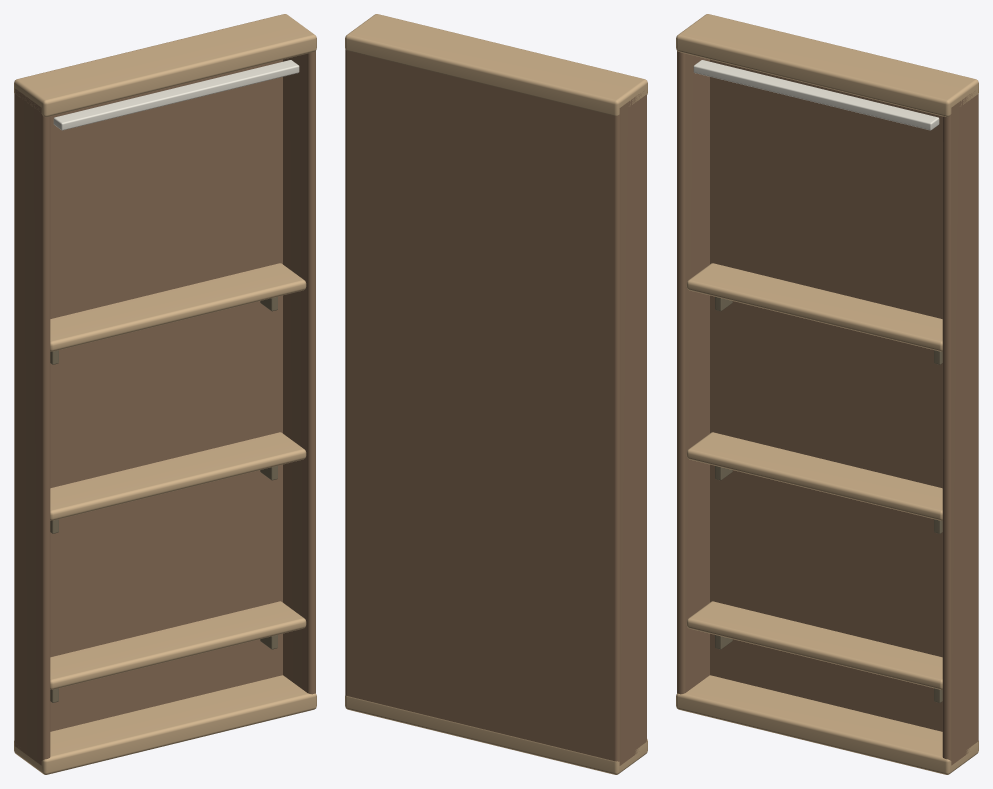
File: wall_cafe_narrow.glb
3 renders of one model, left to right at view 1: azimuth 30°, elevation 25°; view 2: azimuth 150°, elevation 25°; view 3: azimuth 330°, elevation 25°, orthographic.
Visible parts, largest first — view 1: Closed back, seated against existing opaque boundary, Outer stile, Outer stile.001, Bottom / crown.001, Bottom / crown, Load-bearing shelf.002, Load-bearing shelf, Load-bearing shelf.001, Integrated light diffuser; view 2: Closed back, seated against existing opaque boundary, Outer stile, Bottom / crown.001, Bottom / crown; view 3: Closed back, seated against existing opaque boundary, Outer stile.001, Outer stile, Bottom / crown.001, Bottom / crown, Load-bearing shelf.002, Load-bearing shelf, Load-bearing shelf.001, Integrated light diffuser.
Boxes of the visible parts, x1,y1,x2,y2 form: Closed back, seated against existing opaque boundary: (14,59,282,745); Outer stile: (15,89,50,765); Outer stile.001: (283,51,315,694); Bottom / crown.001: (14,14,316,116); Bottom / crown: (14,675,316,774); Load-bearing shelf.002: (50,263,306,351); Load-bearing shelf: (50,601,306,689); Load-bearing shelf.001: (50,432,306,520); Integrated light diffuser: (53,60,299,130); Closed back, seated against existing opaque boundary: (345,49,620,765); Outer stile: (620,91,646,765); Bottom / crown.001: (345,14,647,115); Bottom / crown: (345,695,647,774); Closed back, seated against existing opaque boundary: (710,59,978,741); Outer stile.001: (942,91,977,765); Outer stile: (677,51,709,694); Bottom / crown.001: (676,14,978,116); Bottom / crown: (676,675,978,774); Load-bearing shelf.002: (686,263,942,351); Load-bearing shelf: (686,601,942,689); Load-bearing shelf.001: (686,432,942,520); Integrated light diffuser: (693,60,939,130).
Bounding box in the file's own units: 1 × 2.36 × 0.2.
